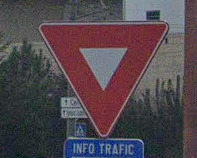cedeaza: (37, 19, 169, 138)
